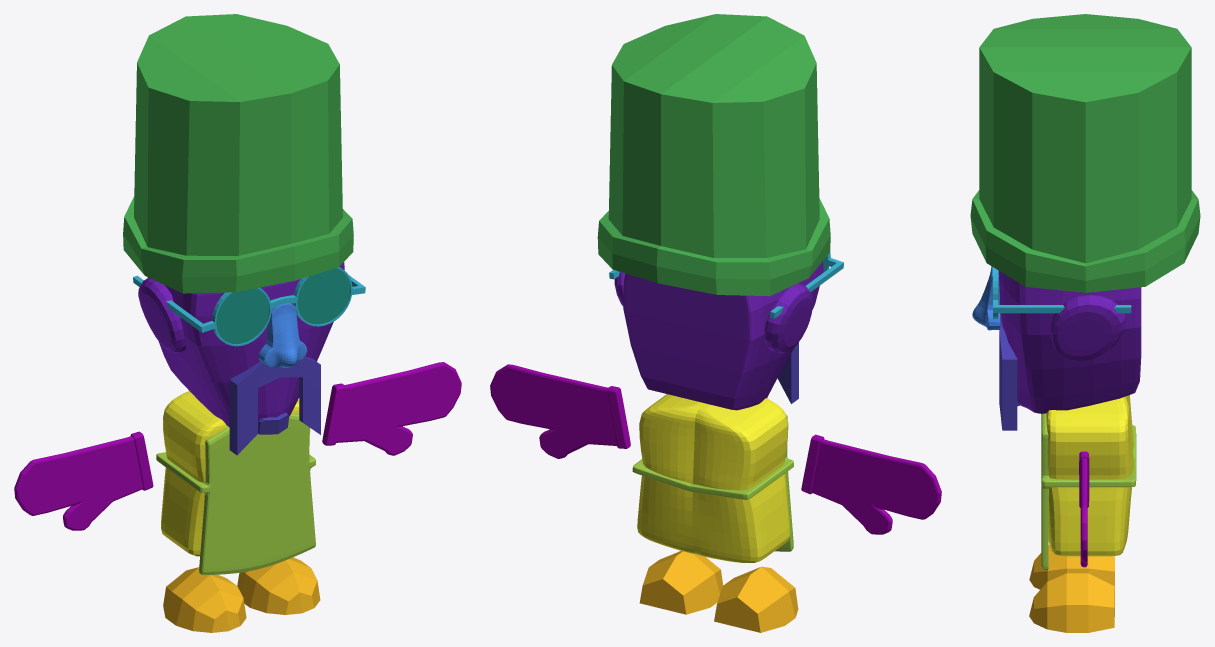
Rendered from Dona disco.fbx.
3 renders of one model, left to right at view 1: azimuth 30°, elevation 25°; view 2: azimuth 150°, elevation 25°; view 3: azimuth 270°, elevation 25°, orthographic.
Visible parts, largest first — view 1: Chapeau, Tablier, Visage, Mitaine_D, Mitaine_G, Lunette, Corps, Moustache, Soulier_D, Soulier G, Nez, Oreille_D; view 2: Chapeau, Corps, Visage, Mitaine_D, Mitaine_G, Soulier_D, Soulier G, Oreille_D, Tablier, Moustache, Lunette; view 3: Chapeau, Visage, Corps, Soulier G, Oreille_G, Tablier, Soulier_D, Moustache, Mitaine_G, Lunette, Nez.
Part boxes in pixels (box(x1,y1,x2,y2)): Chapeau: box(123, 14, 353, 293); Tablier: box(156, 413, 315, 574); Visage: box(147, 262, 344, 426); Mitaine_D: box(14, 431, 153, 530); Mitaine_G: box(322, 362, 461, 455); Lunette: box(133, 267, 365, 346); Corps: box(161, 391, 310, 556); Moustache: box(229, 356, 320, 455); Soulier_D: box(163, 567, 246, 632); Soulier G: box(237, 557, 320, 614); Nez: box(258, 303, 307, 367); Oreille_D: box(138, 278, 186, 353); Chapeau: box(597, 14, 830, 296); Corps: box(637, 394, 790, 562); Visage: box(623, 261, 823, 410); Mitaine_D: box(801, 434, 941, 534); Mitaine_G: box(490, 364, 630, 458); Soulier_D: box(714, 566, 798, 632); Soulier G: box(639, 551, 723, 614); Oreille_D: box(764, 283, 813, 352); Tablier: box(632, 415, 793, 551); Moustache: box(777, 342, 798, 403); Lunette: box(609, 252, 843, 318); Chapeau: box(970, 14, 1200, 292); Visage: box(998, 270, 1141, 413); Corps: box(1046, 395, 1133, 556); Soulier G: box(1029, 573, 1114, 632); Oreille_G: box(1050, 294, 1125, 360); Tablier: box(1041, 413, 1136, 569); Soulier_D: box(1029, 544, 1114, 589); Moustache: box(999, 313, 1017, 430); Mitaine_G: box(1079, 451, 1089, 567); Lunette: box(993, 267, 1131, 318); Nez: box(972, 266, 999, 330).
Size of the model in its own units: 341 by 399 by 151.
